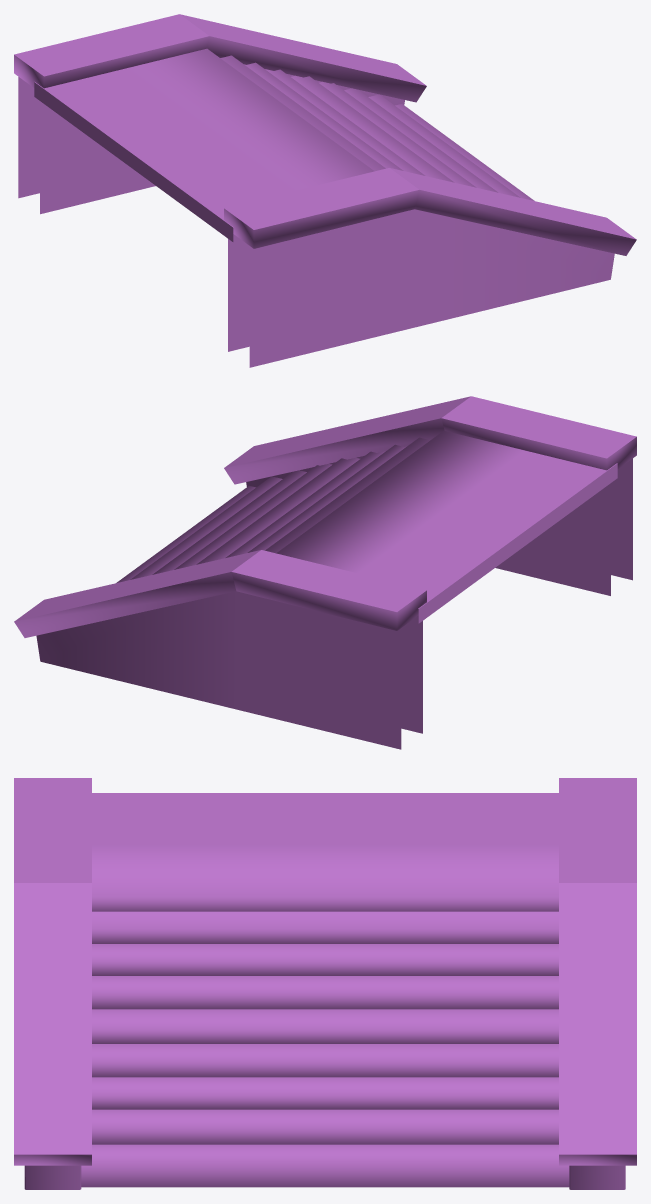
The model's file is BrickHouse_Base_Stairs_A.fbx.
3 renders of one model, top to bottom at view 1: azimuth 30°, elevation 25°; view 2: azimuth 150°, elevation 25°; view 3: azimuth 270°, elevation 25°, orthographic. The views are drawn at different scales.
Visible parts, largest first — view 1: BrickHouse_Base_Stairs_A; view 2: BrickHouse_Base_Stairs_A; view 3: BrickHouse_Base_Stairs_A.
Part boxes in pixels (x1,y1,x2,y2): BrickHouse_Base_Stairs_A: (14, 14, 636, 367); BrickHouse_Base_Stairs_A: (14, 396, 636, 749); BrickHouse_Base_Stairs_A: (14, 778, 636, 1189).
Bounding box in the file's own units: 3.14 × 1.1 × 3.4.
